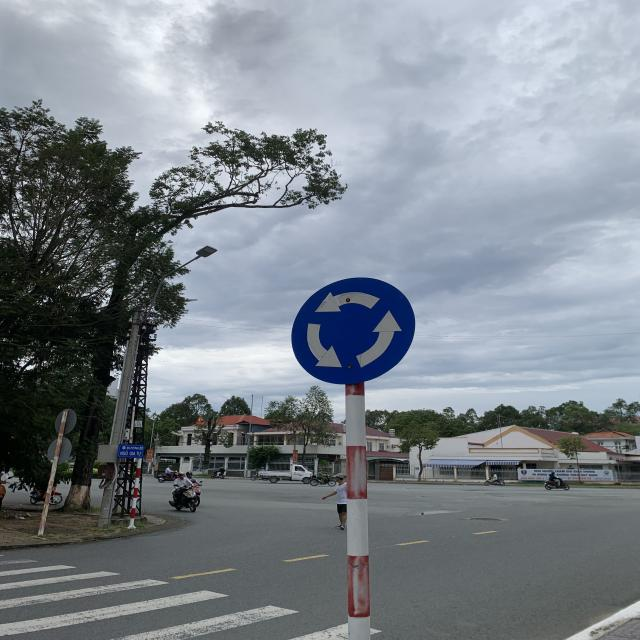Xe_Bus: (290, 275, 414, 384)
